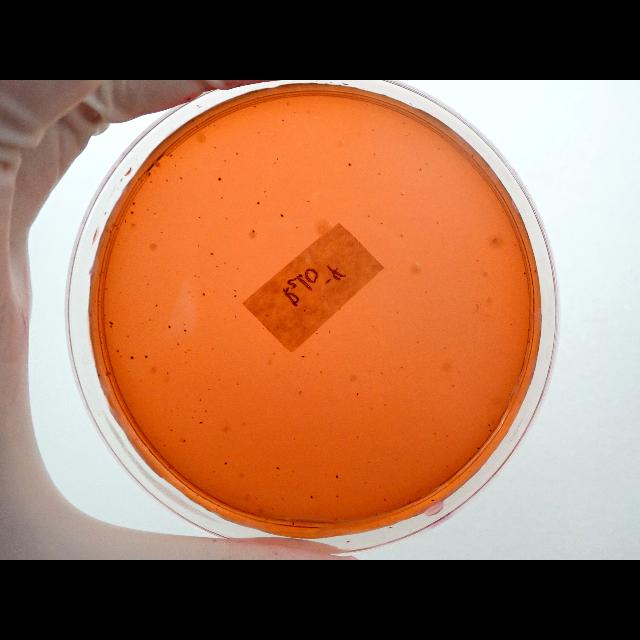colony: (131, 222, 137, 228), (303, 308, 307, 314), (234, 151, 240, 155), (335, 474, 339, 478), (364, 481, 368, 485), (408, 500, 412, 504), (431, 498, 435, 502), (418, 167, 422, 171), (471, 154, 475, 158), (403, 122, 407, 126), (306, 110, 310, 114), (286, 102, 290, 106), (253, 105, 257, 109), (280, 214, 284, 218), (130, 210, 134, 214), (148, 172, 152, 176), (348, 162, 352, 166), (218, 177, 222, 181), (154, 304, 158, 308), (276, 466, 280, 470), (144, 355, 148, 359), (299, 273, 303, 277), (424, 290, 428, 294), (322, 294, 326, 298), (168, 466, 172, 470), (130, 356, 134, 360), (146, 282, 150, 286), (126, 334, 130, 338), (378, 484, 382, 488), (451, 384, 455, 388), (509, 323, 513, 327), (298, 390, 302, 394), (316, 352, 320, 356), (310, 494, 312, 500), (388, 511, 392, 514), (476, 446, 479, 450), (306, 200, 310, 203), (132, 202, 136, 205), (179, 177, 183, 180), (401, 192, 404, 196), (210, 252, 214, 255), (202, 292, 205, 296), (356, 392, 359, 396), (292, 520, 294, 526), (205, 409, 208, 413), (177, 342, 180, 346), (476, 258, 479, 262), (300, 356, 306, 358), (416, 341, 420, 344), (367, 461, 371, 464), (220, 197, 223, 200), (197, 245, 200, 248), (336, 494, 338, 498), (384, 498, 386, 502), (446, 464, 448, 468), (446, 434, 448, 438), (444, 346, 446, 350), (528, 328, 530, 332), (372, 128, 374, 132), (257, 96, 259, 100), (258, 131, 260, 135), (265, 134, 267, 138), (256, 202, 260, 204), (252, 229, 254, 233), (146, 209, 150, 211), (166, 178, 168, 182), (148, 181, 152, 183), (170, 154, 172, 158), (178, 157, 182, 159), (214, 146, 216, 150), (192, 118, 194, 122), (378, 172, 380, 176), (374, 152, 376, 156), (194, 274, 196, 278), (168, 325, 170, 329), (270, 508, 274, 510), (184, 439, 186, 443), (199, 422, 203, 424), (170, 428, 172, 432), (194, 409, 196, 413), (199, 398, 201, 402), (237, 382, 239, 386), (188, 290, 190, 294), (316, 332, 318, 336), (328, 330, 330, 334), (116, 350, 120, 352), (104, 288, 108, 290), (149, 318, 151, 322), (338, 308, 342, 310), (372, 324, 374, 328), (383, 403, 387, 405), (388, 382, 392, 384), (395, 458, 397, 462), (98, 274, 102, 276), (101, 270, 103, 274), (118, 292, 122, 294), (458, 371, 460, 374), (528, 341, 530, 344), (436, 220, 438, 223), (293, 112, 295, 115), (264, 190, 266, 193), (265, 195, 267, 198), (296, 227, 298, 230), (198, 217, 200, 220), (160, 232, 163, 234), (356, 436, 359, 438), (225, 462, 228, 464), (192, 416, 194, 419), (167, 372, 170, 374), (380, 222, 382, 225), (401, 235, 403, 238), (176, 406, 178, 409), (177, 414, 180, 416), (187, 349, 190, 351), (184, 351, 186, 354), (401, 366, 404, 368), (369, 371, 371, 374), (371, 408, 374, 410), (320, 371, 322, 374), (426, 162, 428, 165), (490, 430, 492, 432), (488, 424, 490, 426), (434, 432, 436, 434), (524, 272, 526, 274), (534, 270, 536, 272), (282, 120, 284, 122), (274, 134, 276, 136), (276, 158, 278, 160), (274, 162, 276, 164), (250, 228, 252, 230), (225, 217, 227, 219), (124, 220, 126, 222), (154, 212, 156, 214), (175, 164, 177, 166), (196, 126, 198, 128), (438, 148, 440, 150), (310, 181, 312, 183), (216, 266, 218, 268), (224, 262, 226, 264), (236, 268, 238, 270), (198, 276, 200, 278), (234, 290, 236, 292), (234, 295, 236, 297), (184, 330, 186, 332), (282, 498, 284, 500), (292, 470, 294, 472), (277, 474, 279, 476), (208, 388, 210, 390), (219, 378, 221, 380), (213, 290, 215, 292), (235, 316, 237, 318), (224, 318, 226, 320), (368, 215, 370, 217), (164, 444, 166, 446), (164, 409, 166, 411), (170, 410, 172, 412), (140, 380, 142, 382), (171, 348, 173, 350), (120, 355, 122, 357), (109, 321, 111, 323), (111, 323, 113, 325), (110, 325, 112, 327), (117, 244, 119, 246), (116, 228, 118, 230), (144, 275, 146, 277), (104, 314, 106, 316), (105, 322, 107, 324), (100, 342, 102, 344), (141, 323, 143, 325), (183, 323, 185, 325), (185, 362, 187, 364), (212, 348, 214, 350), (396, 312, 398, 314), (381, 372, 383, 374), (224, 160, 226, 162), (366, 104, 368, 106), (256, 232, 256, 234)
